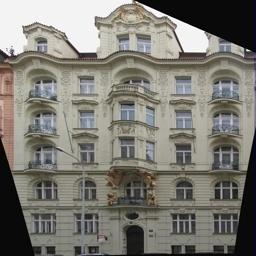building: (16, 3, 249, 247)
